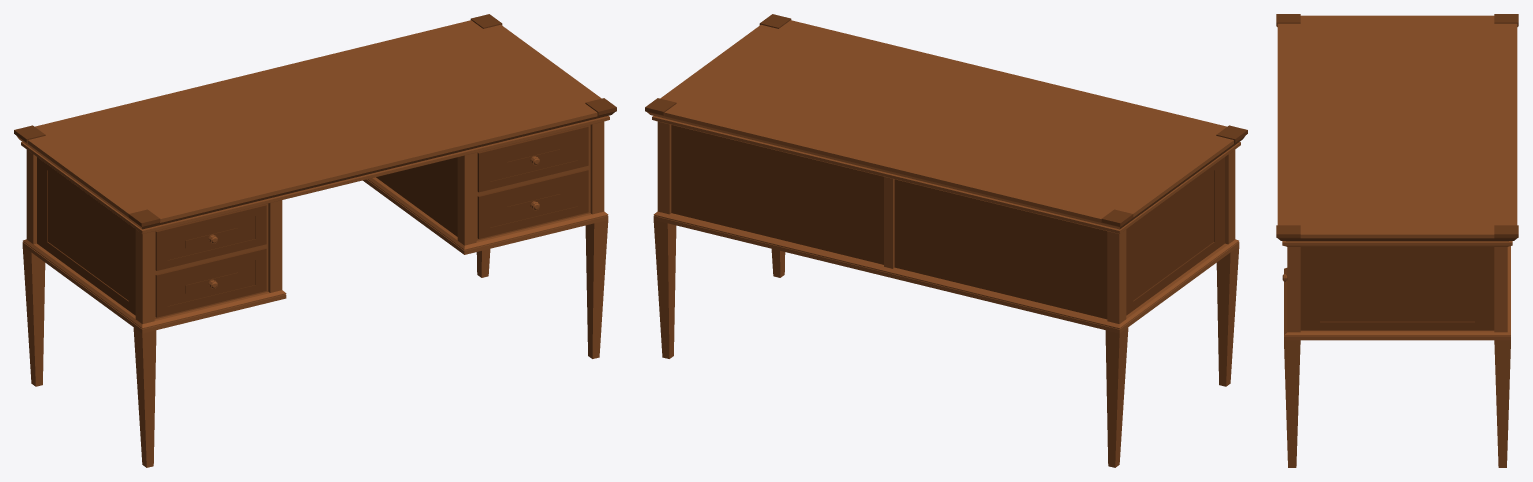
File: desk_drawer.glb
3 renders of one model, left to right at view 1: azimuth 30°, elevation 25°; view 2: azimuth 150°, elevation 25°; view 3: azimuth 270°, elevation 25°, orthographic. The views are drawn at different scales.
Parts seen in each view (by area): view 1: Desk, Desk_Drawer4, Desk_Drawer2, Desk_Drawer3, Desk_Drawer1; view 2: Desk; view 3: Desk.
Boxes of the visible parts, bbox=[...] form: Desk: bbox=[14, 14, 616, 467]; Desk_Drawer4: bbox=[155, 248, 266, 317]; Desk_Drawer2: bbox=[477, 169, 588, 238]; Desk_Drawer3: bbox=[155, 204, 266, 270]; Desk_Drawer1: bbox=[477, 126, 588, 192]; Desk: bbox=[645, 14, 1247, 467]; Desk: bbox=[1276, 14, 1518, 467].
Size of the model in its own units: 1.78 by 0.9 by 0.826.
